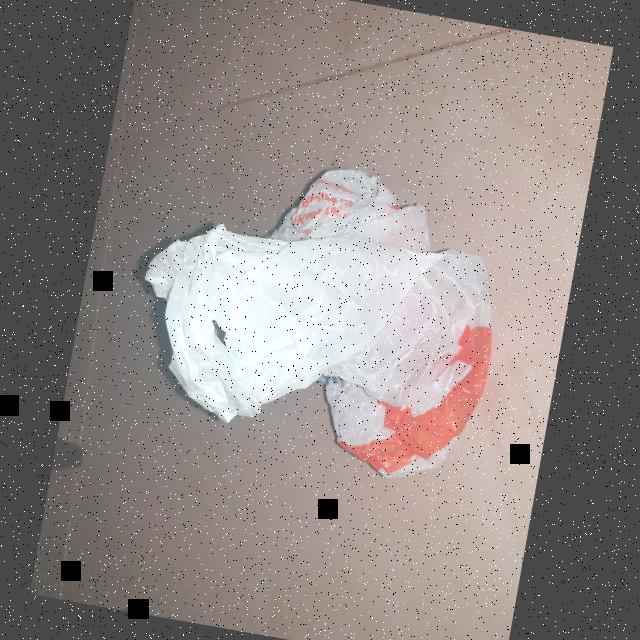plastic_bag: (101, 119, 540, 505)
